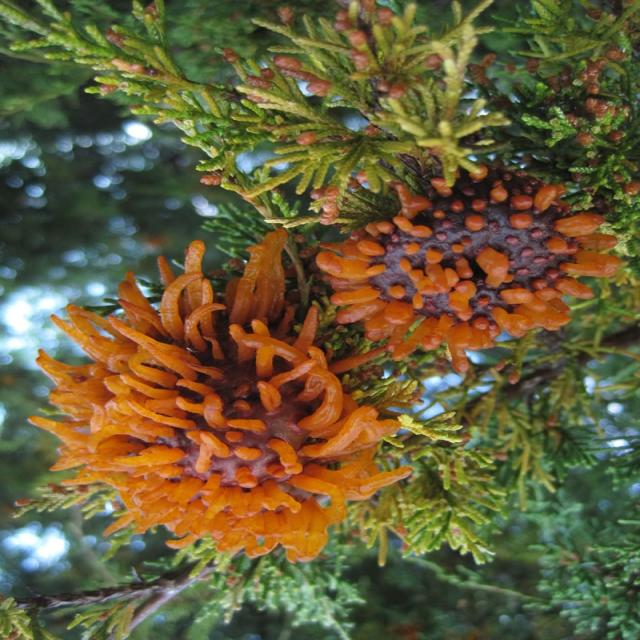Gymnosporangium_Rusts: (23, 228, 415, 564), (313, 160, 621, 374)
